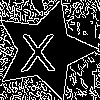X: (20, 25, 55, 72)
